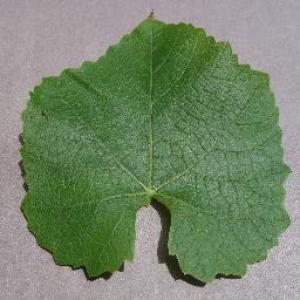Folha: (18, 8, 292, 285)
